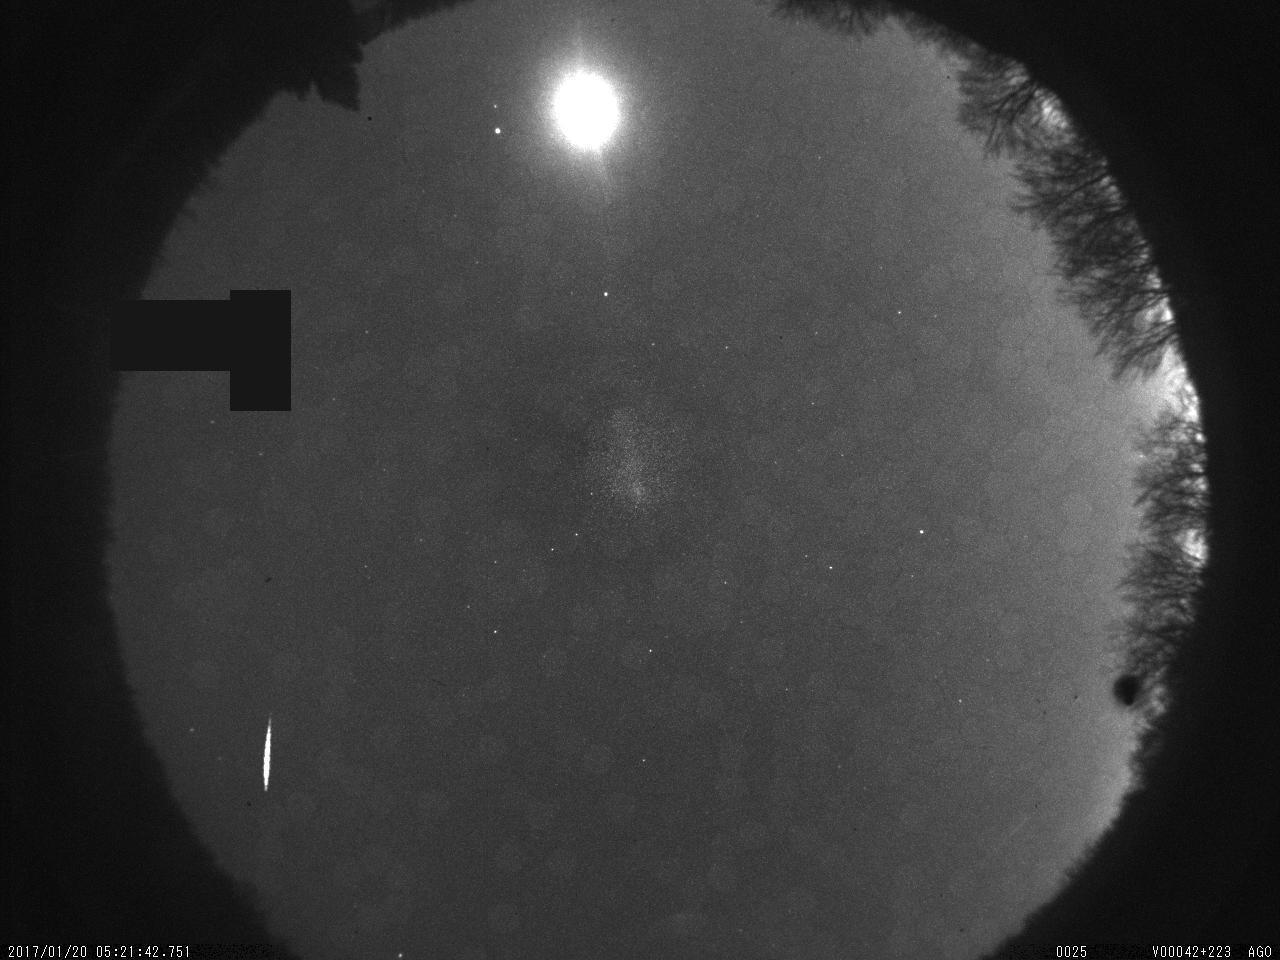meteor: (242, 700, 294, 809)
